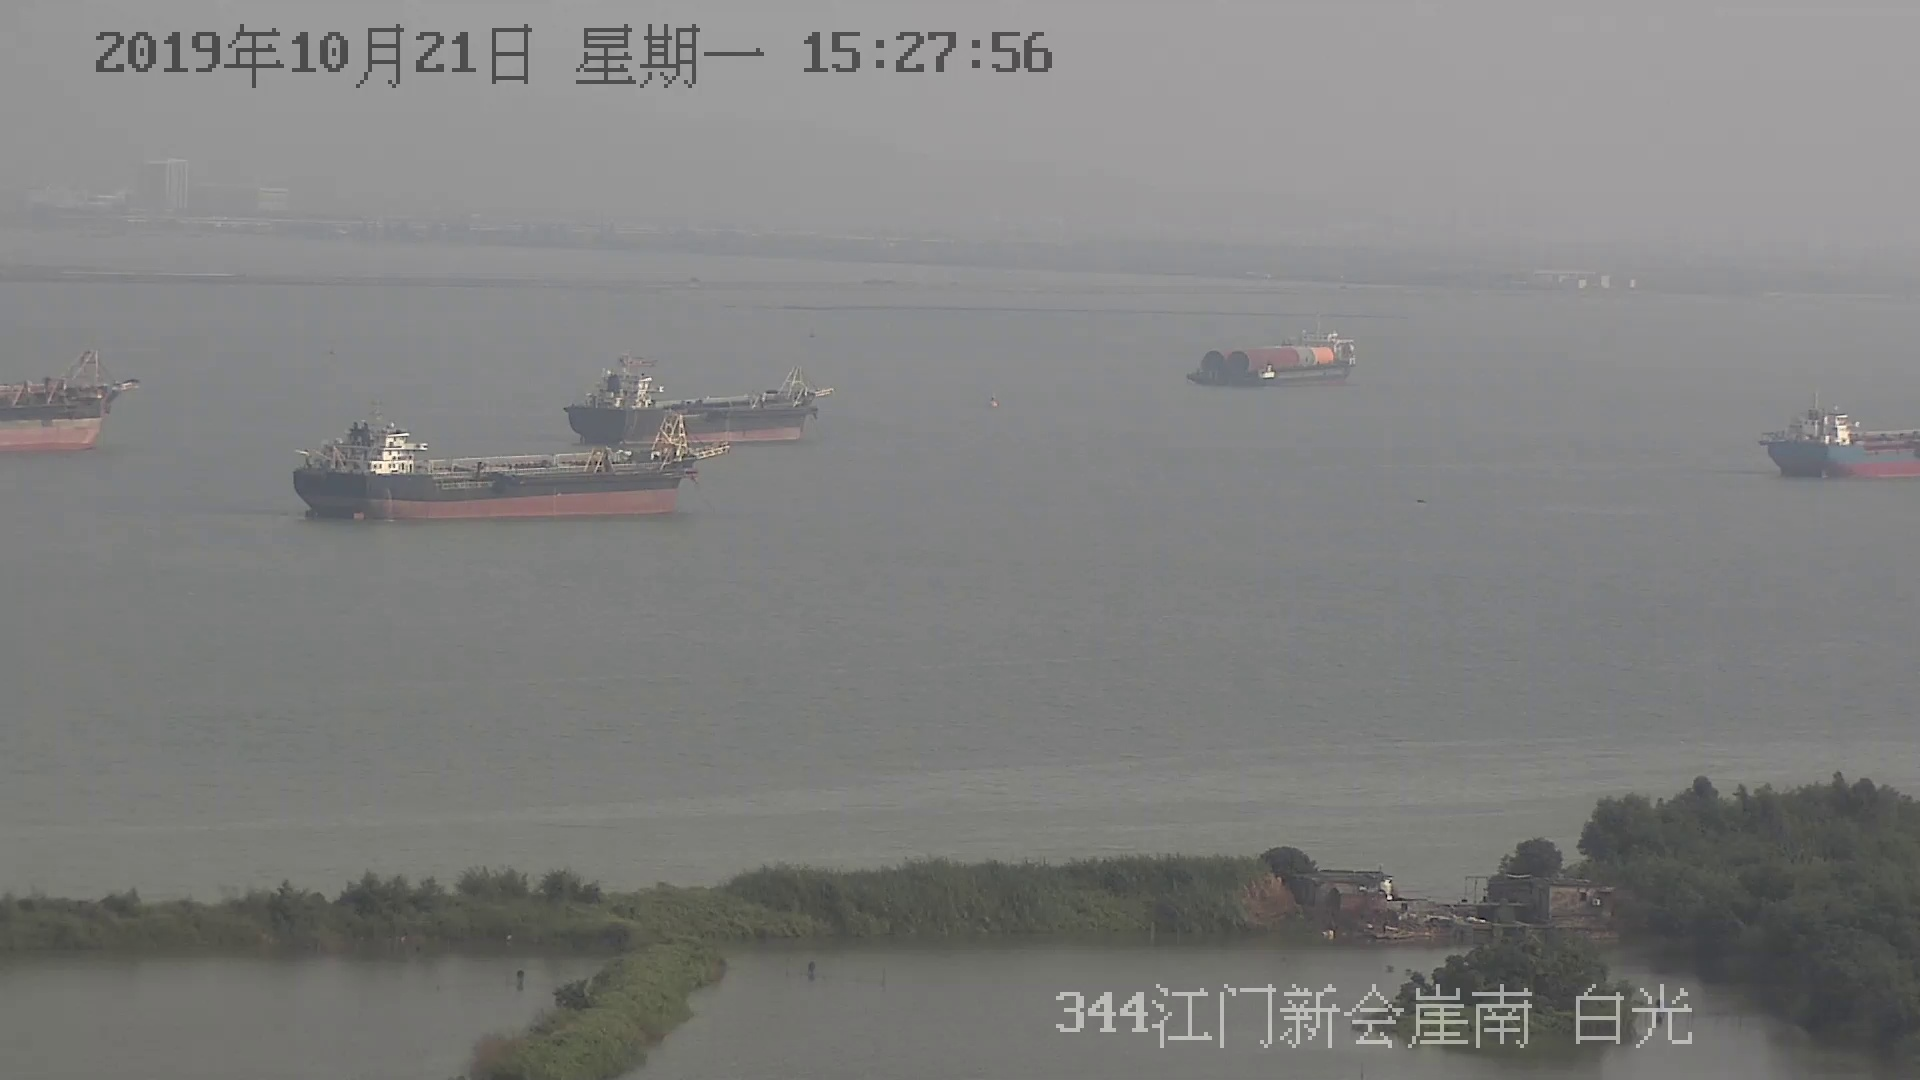ship: (285, 378, 731, 527), (549, 349, 835, 458), (1, 351, 142, 454), (1759, 394, 1919, 480), (1188, 338, 1358, 386)
